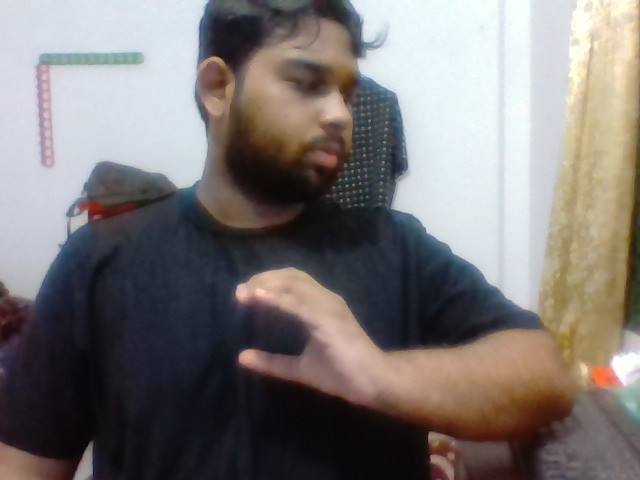C: (211, 256, 408, 421)
